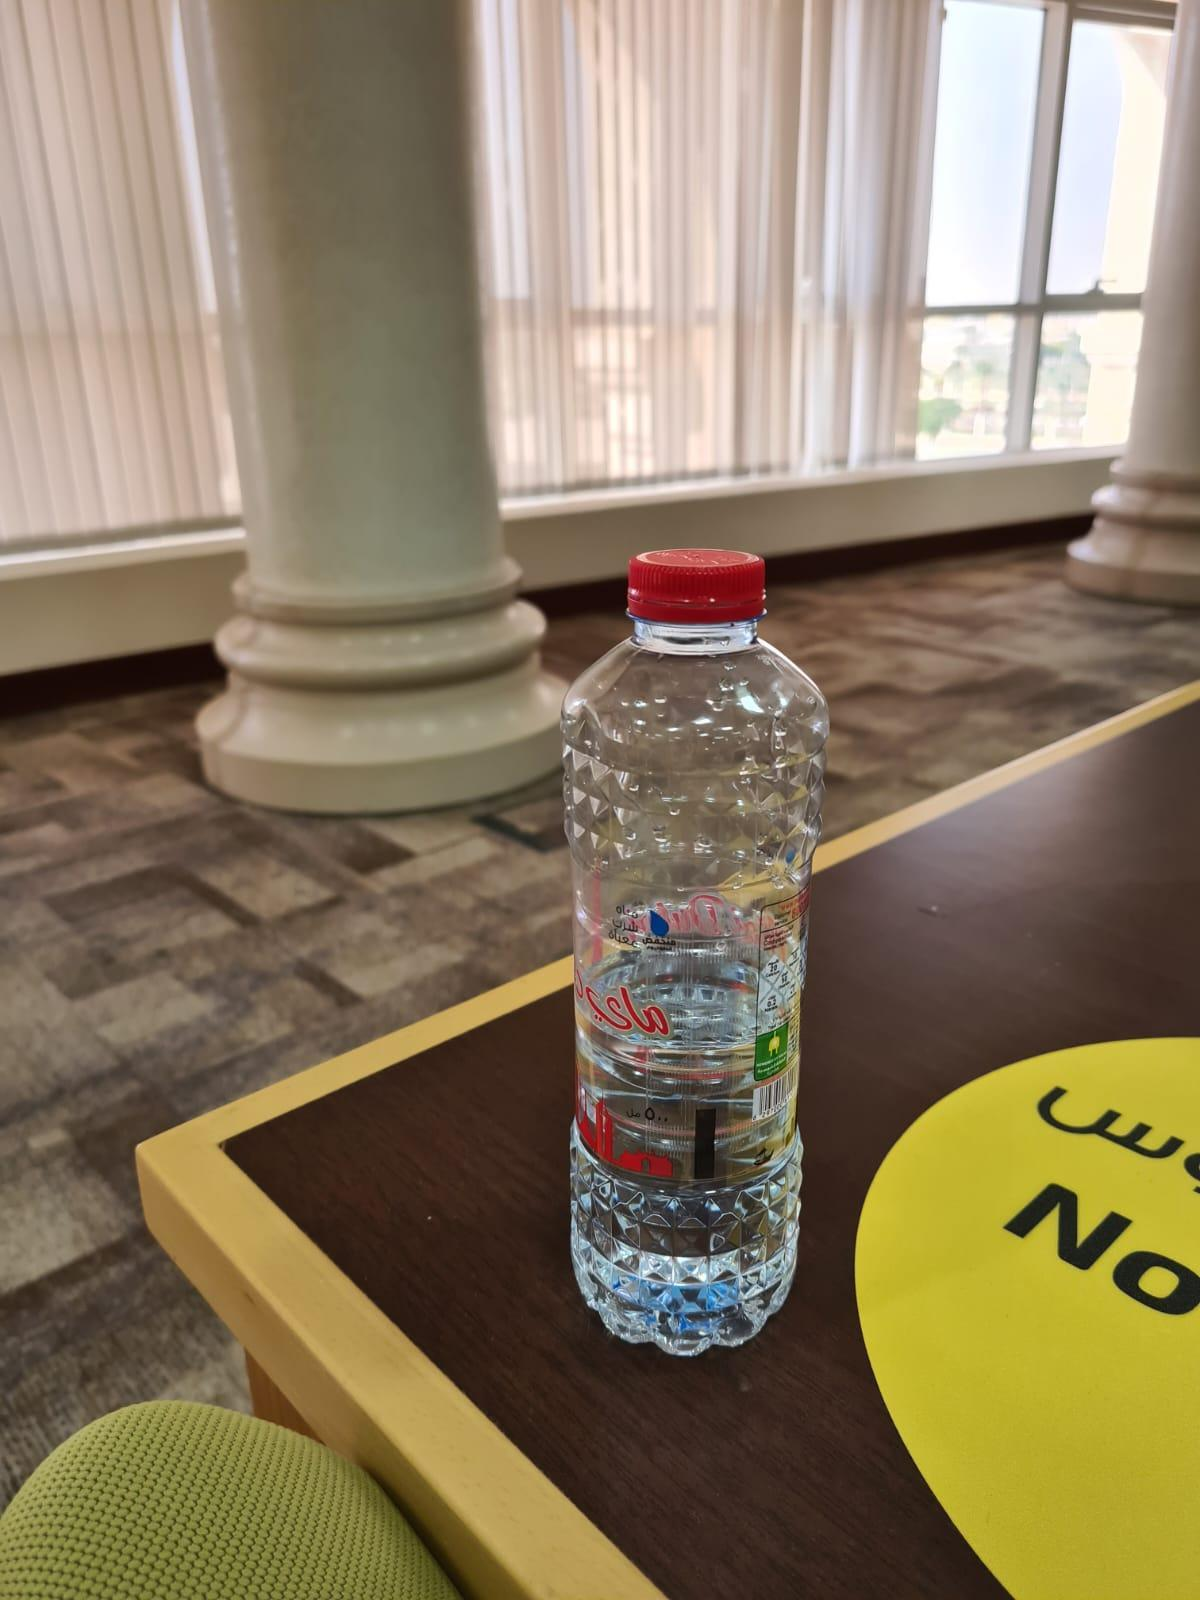bottle: (561, 549, 811, 1349)
